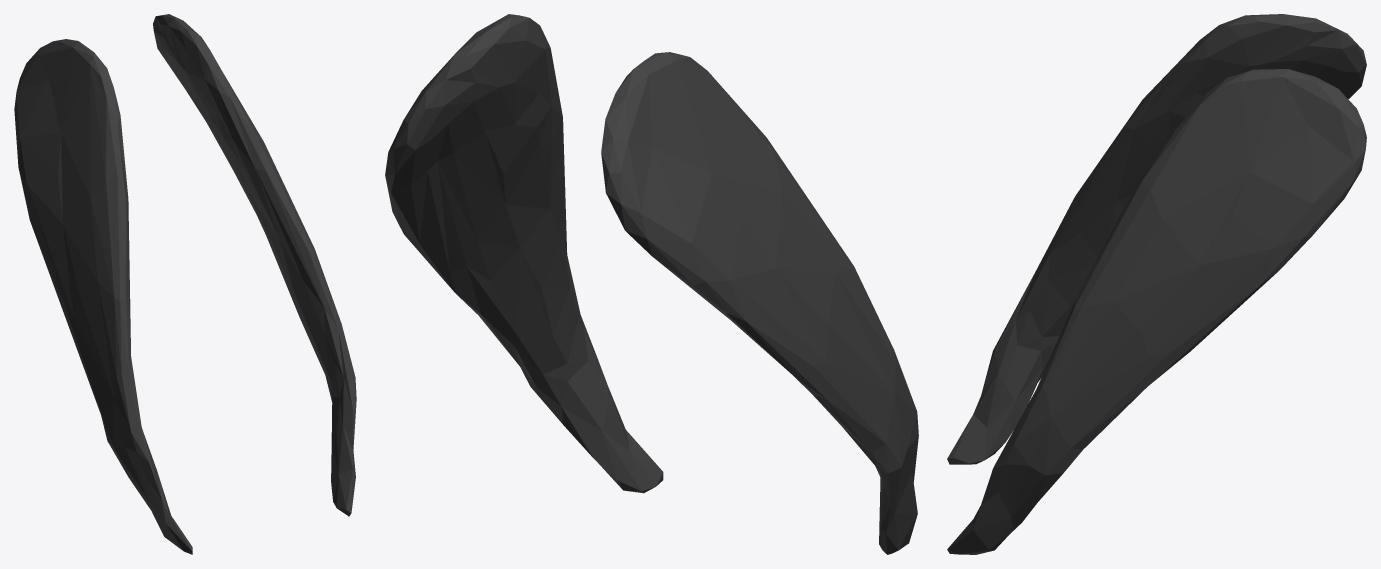
Rendered from m_subscapularis.glb.
3 views of the same model, side by side, from view 1: azimuth 30°, elevation 25°; view 2: azimuth 150°, elevation 25°; view 3: azimuth 270°, elevation 25° (orthographic). The views are drawn at different scales.
Parts seen in each view (by area): view 1: m_subscapularis; view 2: m_subscapularis; view 3: m_subscapularis.
Part boxes in pixels (x1=…): m_subscapularis: x1=14, y1=14, x2=356, y2=554; m_subscapularis: x1=385, y1=14, x2=918, y2=554; m_subscapularis: x1=947, y1=14, x2=1366, y2=554.
Bounding box in the file's own units: 0.00399 × 0.00656 × 0.00534.
Materials: 1 (1 with a texture image).
